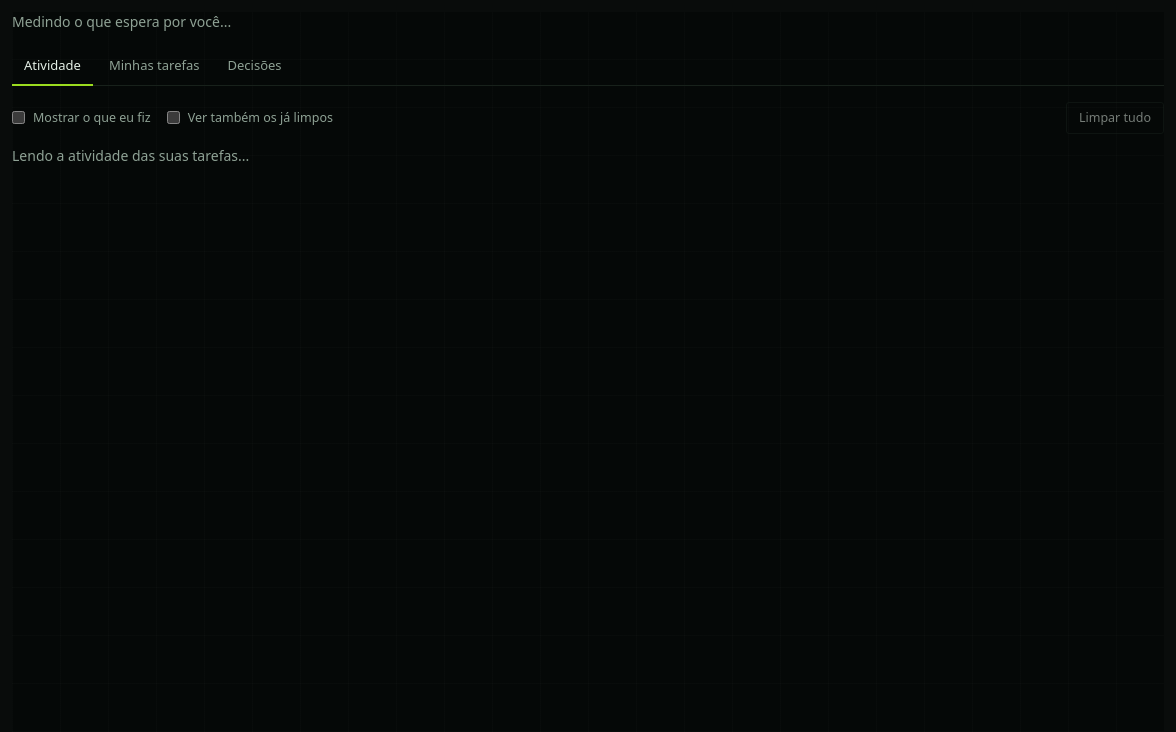
Test: P1: as abas › abre na Atividade, é um tablist acessível e troca pela query
The width and height of the screenshot is (1176, 732).
Click the tab with test id "caixa-aba-tarefas": (154, 67) [97,48,211,86]
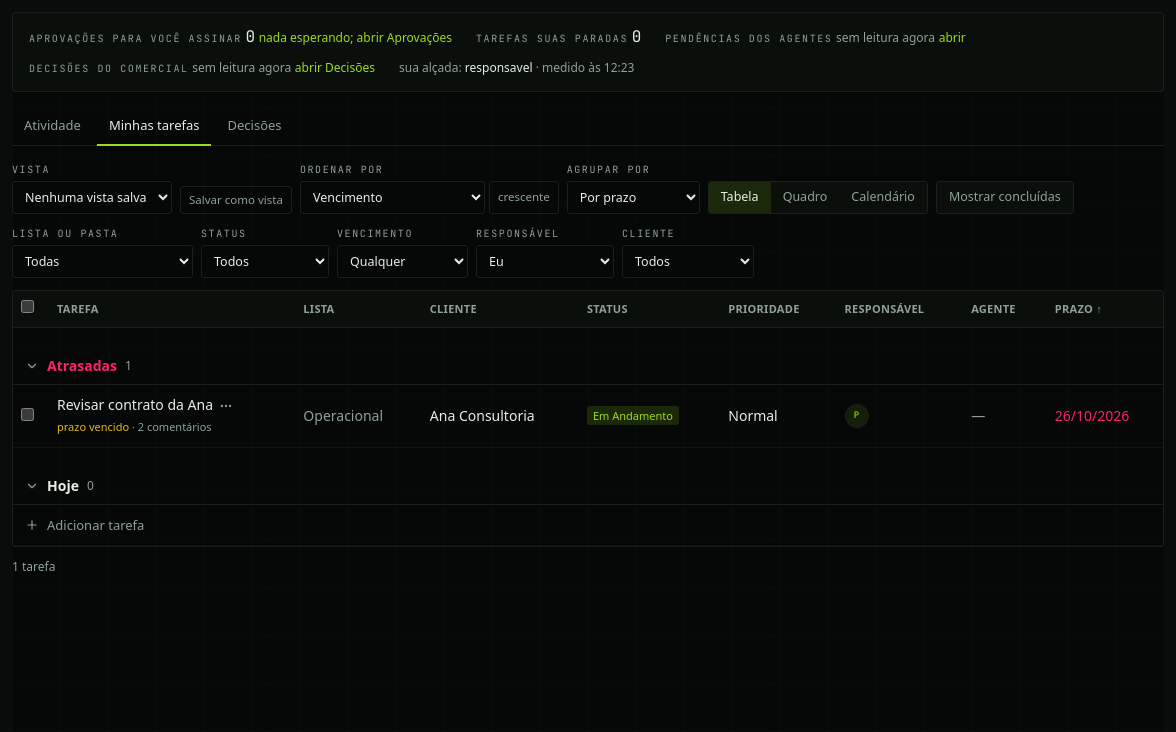
Expected: the row with test id "caixa-tarefa-t-9" is shown, [13,384,1163,447]
